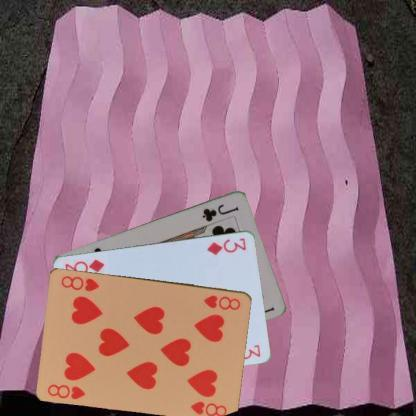3d: (204, 235, 247, 256)
8h: (201, 292, 242, 312), (45, 381, 87, 400)
Jc: (200, 200, 240, 223)
